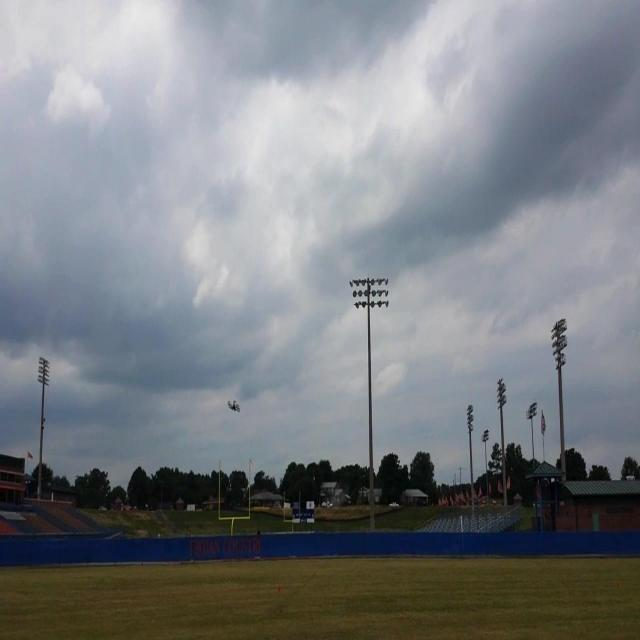UAV: (228, 400, 240, 412)
